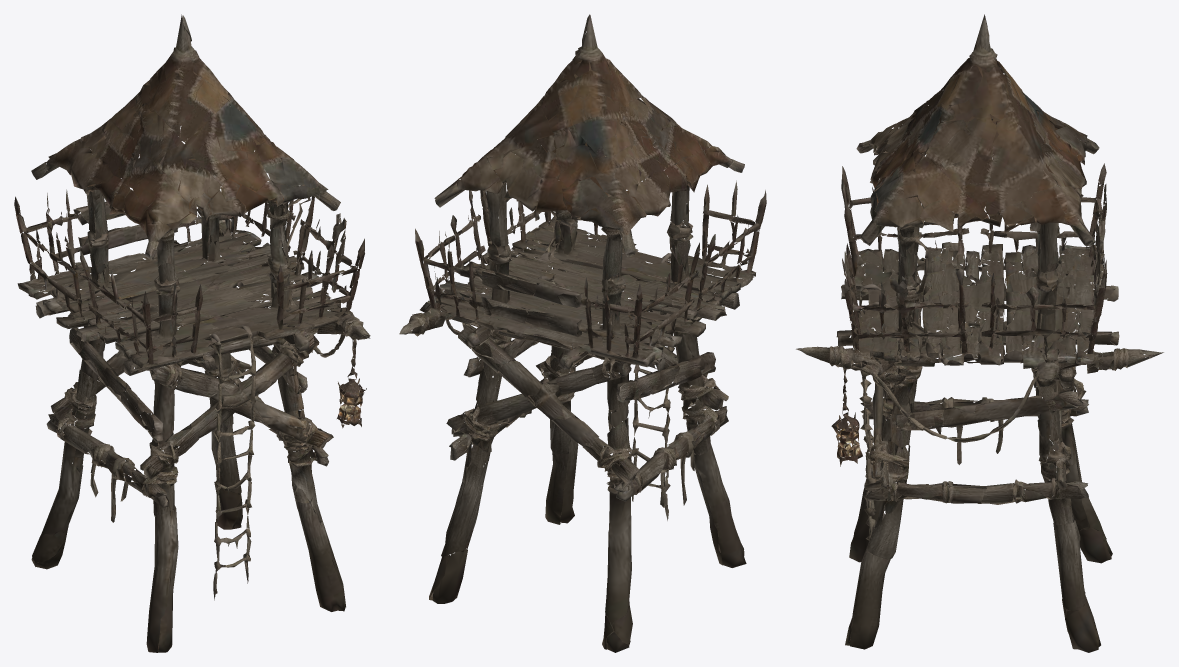
Rendered from tower.glb.
The picture shows the model from 3 angles, left to right: view 1: azimuth 30°, elevation 25°; view 2: azimuth 150°, elevation 25°; view 3: azimuth 270°, elevation 25°; orthographic projection. The views are drawn at different scales.
Visible parts, largest first — view 1: Tower; view 2: Tower; view 3: Tower.
Part boxes in pixels (left/top/right/bottom): Tower: left=14, top=14, right=370, bottom=652; Tower: left=399, top=14, right=766, bottom=652; Tower: left=796, top=14, right=1163, bottom=652.
Bounding box in the file's own units: 3.85 × 8.5 × 4.87.
Materials: 1 (1 with a texture image).
